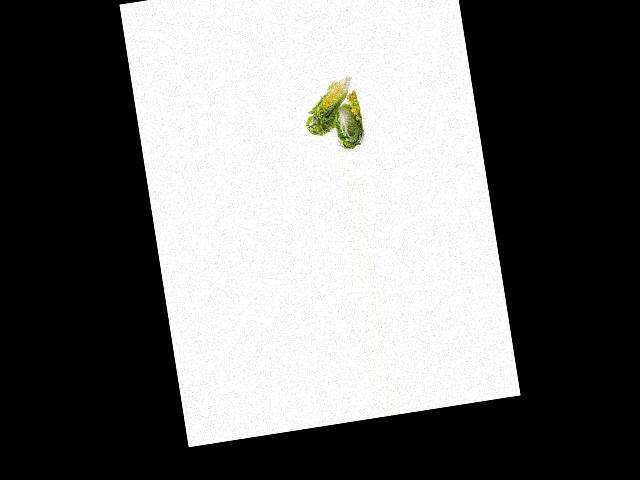lettuce: (329, 95, 367, 149)
